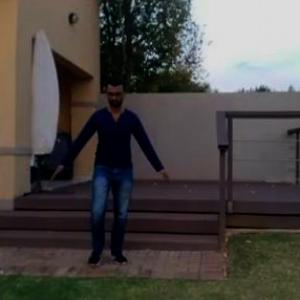land: (38, 62, 167, 285)
